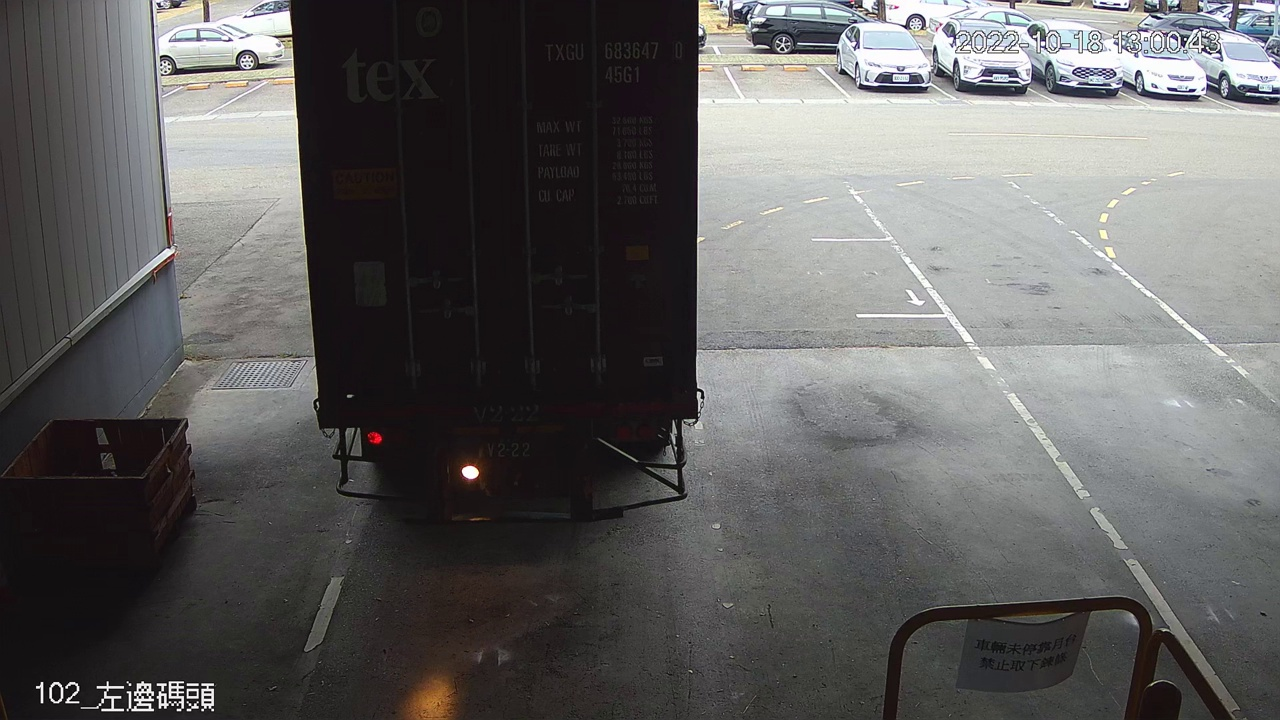container: (537, 37, 690, 92)
